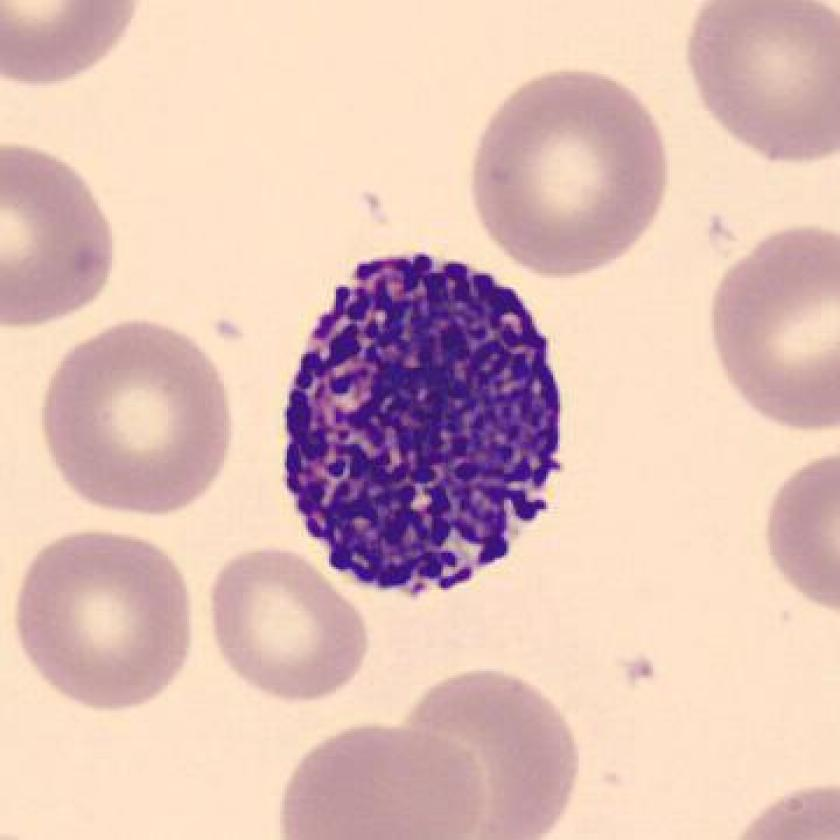basophil: (288, 251, 573, 600)
